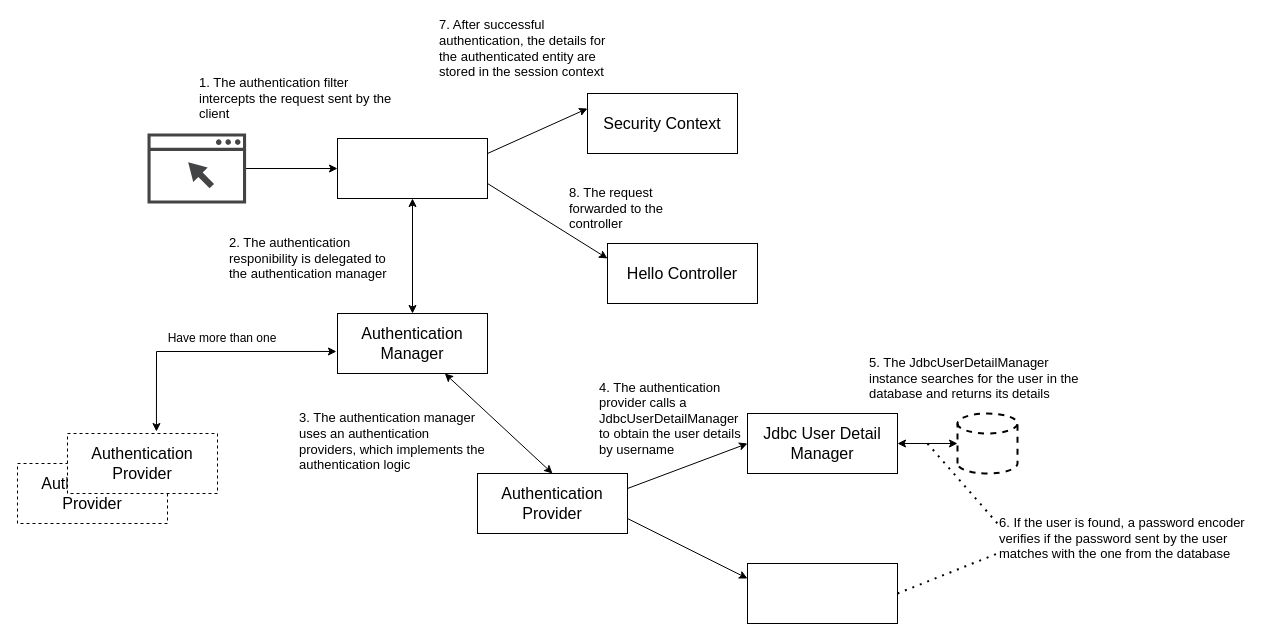
Image size: 1265x641. Some labels were removed from this diagram. The shapes that lost their labels are listed below. From the top down, each one's centre as x and y in pixels, then its label:
At pixel 412 168: "Authentication Filter".
At pixel 987 443: "MySQL".
At pixel 822 593: "Password Encoder".
